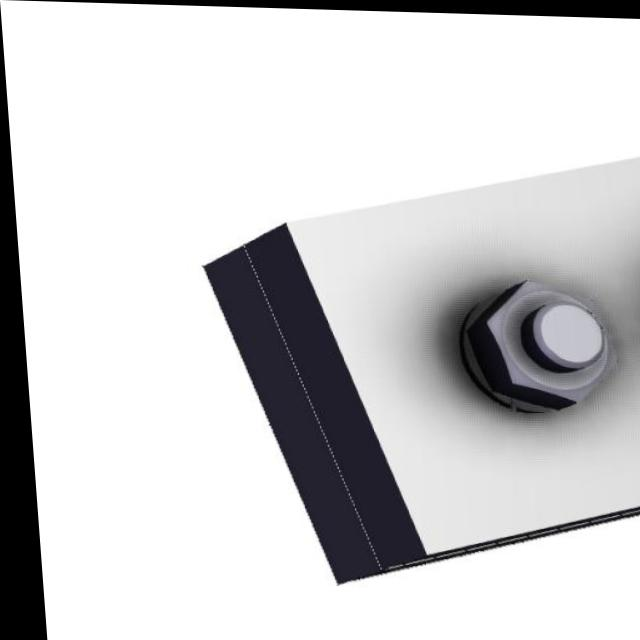Regular bolt: (461, 274, 616, 405)
